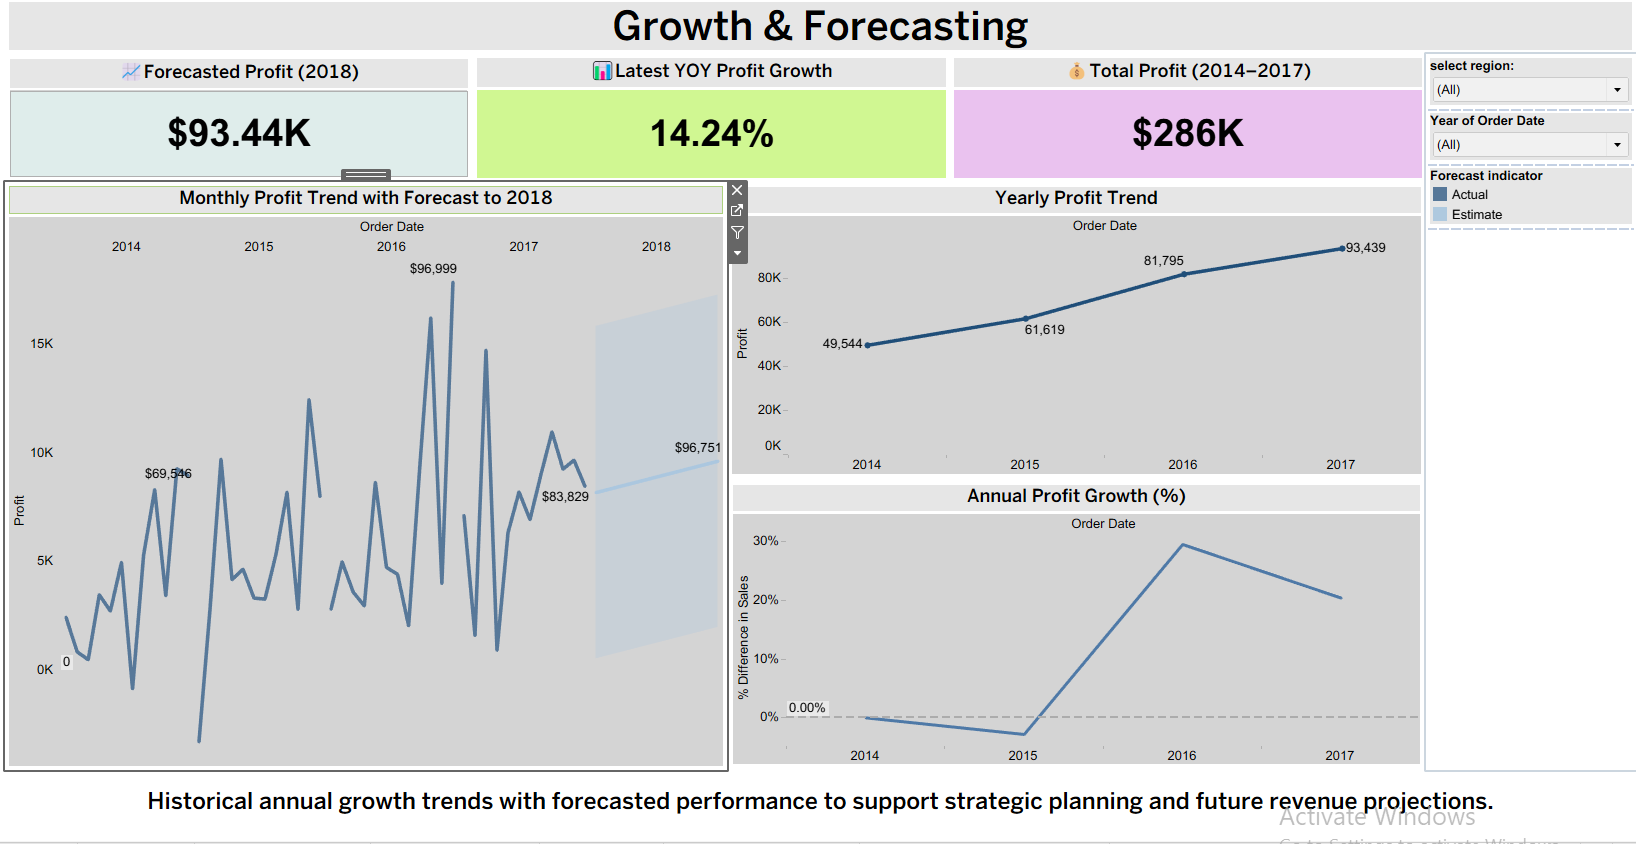

The dashboard page shown, as its layout file describes it:
{"tool":"tableau","page":{"name":"Growth & Forecasting","canvas":[1000,1000],"units":"permille","ordinal":0},"visuals":[{"type":"title","box":[4.8,9.4,990.3,65.8]},{"type":"worksheet","title":"Forcasted Profit","mark":"Text","box":[4.8,75.2,288.5,150.4]},{"type":"worksheet","title":"YOY Growth %","mark":"Text","box":[293.3,75.2,287.9,150.4]},{"type":"worksheet","title":"Total profit","mark":"Text","box":[581.2,75.2,287.3,150.4]},{"type":"filter","title":"yearly profit trend","param":"[federated.18dnule1kxufxl17i8oe21v73u3z].[none:Region:nk]","box":[868.4,75.2,126.7,64.6]},{"type":"filter","title":"profit monthly trend + forcast to 2018","param":"[federated.18dnule1kxufxl17i8oe21v73u3z].[yr:Order Date:ok]","box":[868.4,139.8,126.7,64.6]},{"type":"legend","title":"profit monthly trend + forcast to 2018","param":"[federated.18dnule1kxufxl17i8oe21v73u3z].[none:Forecast Indicator:nk]","box":[868.4,204.5,126.7,75.2]},{"type":"worksheet","title":"profit monthly trend + forcast to 2018","mark":"Line","rows":["Profit"],"cols":["Order Date","Order Date"],"box":[4.8,225.6,438.6,691.5]},{"type":"worksheet","title":"yearly profit trend","mark":"Automatic","rows":["Profit"],"cols":["Order Date"],"box":[443.4,225.6,425,348.7]},{"type":"worksheet","title":"annual growth","mark":"Automatic","cols":["Order Date"],"box":[443.4,574.3,425,342.8]},{"type":"text","box":[4.8,917.1,990.3,73.5]}]}

Visuals, with their boxes on the dashboard's canvas, which has no fixed pixel size, in thousandths of its width and height (x1, y1, x2, y2). These are canvas units, not pixel positions in the 1636x844 screenshot, which may show the page scaled, cropped or inside an application window:
title: [5, 9, 995, 75]
"Forcasted Profit" worksheet (Text marks): [5, 75, 293, 226]
"YOY Growth %" worksheet (Text marks): [293, 75, 581, 226]
"Total profit" worksheet (Text marks): [581, 75, 868, 226]
"yearly profit trend" filter: [868, 75, 995, 140]
"profit monthly trend + forcast to 2018" filter: [868, 140, 995, 204]
"profit monthly trend + forcast to 2018" legend: [868, 204, 995, 280]
"profit monthly trend + forcast to 2018" worksheet (Line marks): [5, 226, 443, 917]
"yearly profit trend" worksheet: [443, 226, 868, 574]
"annual growth" worksheet: [443, 574, 868, 917]
text: [5, 917, 995, 991]
